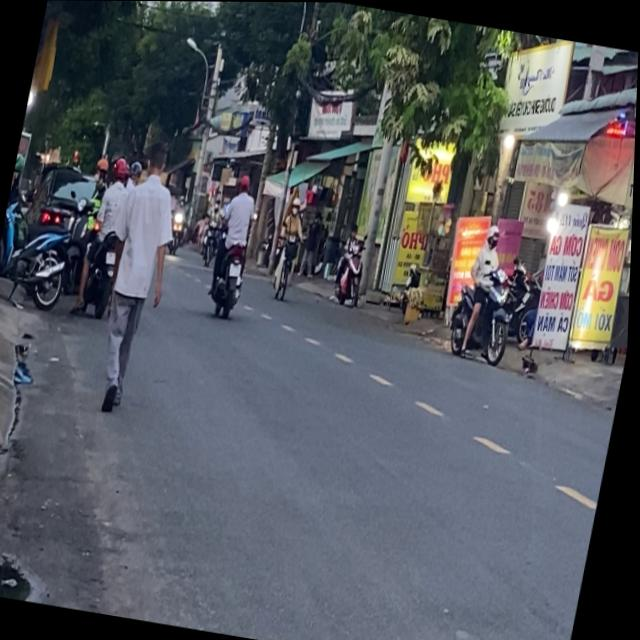helmet: (111, 155, 132, 183), (487, 222, 504, 248)
licenseplate: (446, 217, 531, 367), (74, 150, 141, 320)
